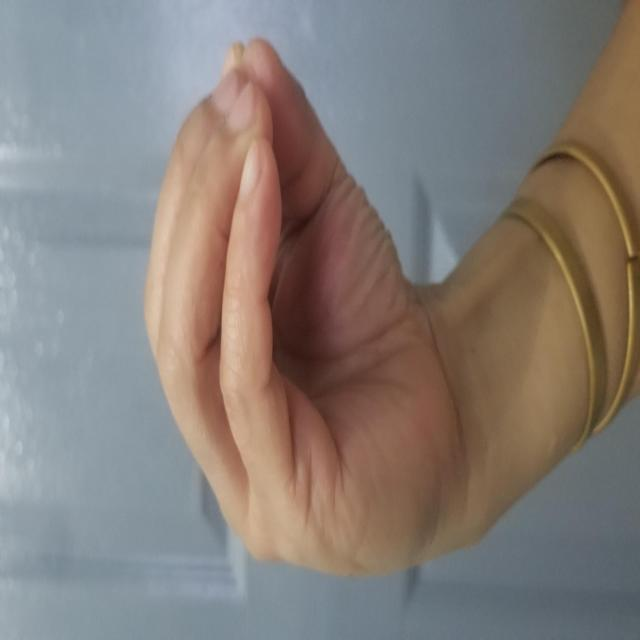O: (55, 142, 605, 436)
